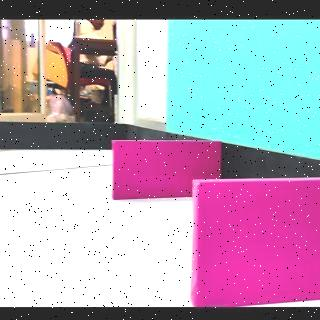xparking: (197, 186, 310, 300), (114, 141, 194, 195)
